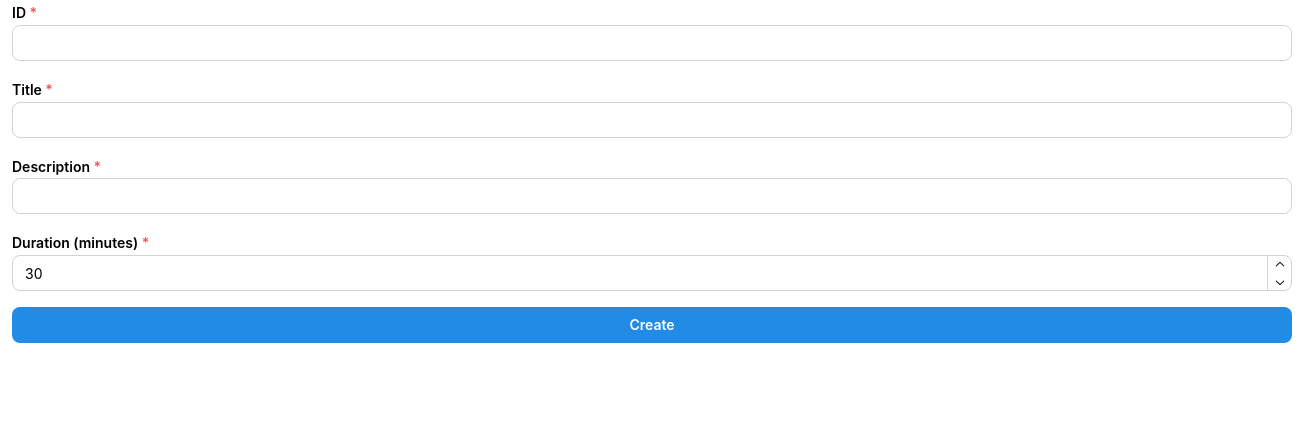
Test: CreateEventTypeForm › показывает сообщение при неизвестной ошибке
The width and height of the screenshot is (1304, 432).
Type "intro" into the field labelled "ID *" at (652, 43), box x1=12 y1=25 x2=1292 y2=61
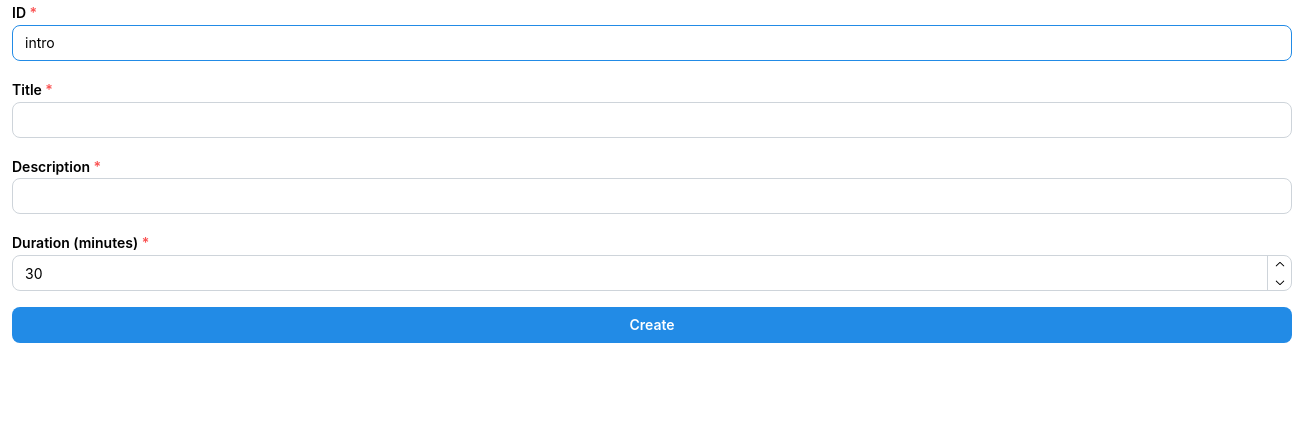
Type "Intro" into the field labelled "Title *" at (652, 120), box x1=12 y1=102 x2=1292 y2=138
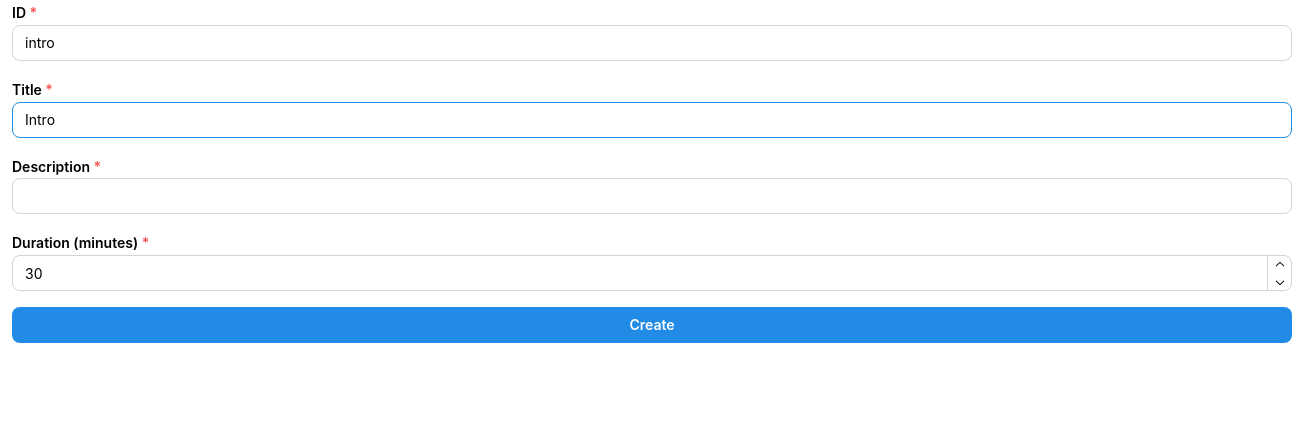
Type "Desc" into the field labelled "Description *" at (652, 196), box x1=12 y1=178 x2=1292 y2=214
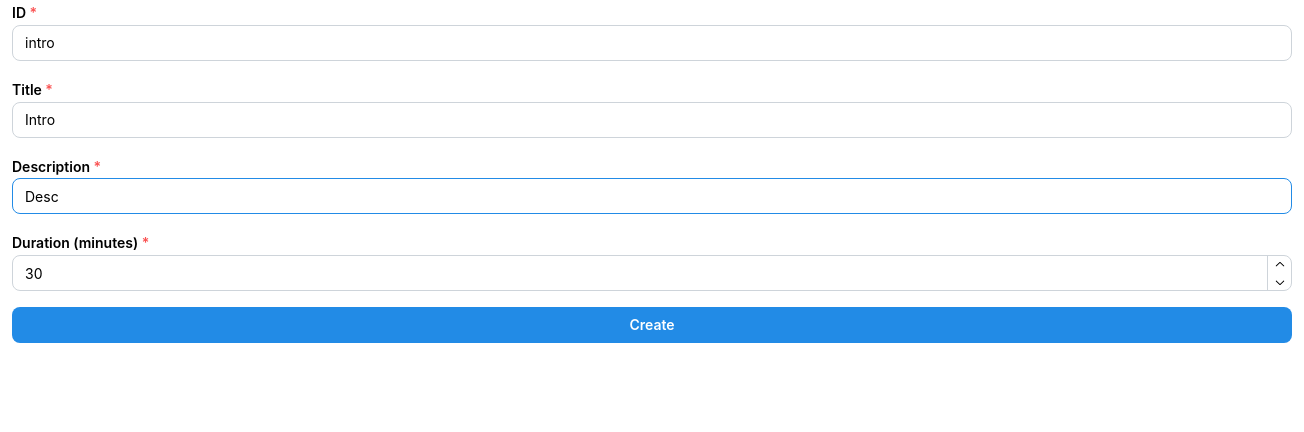
Click the button "Create" at (652, 325), box x1=12 y1=307 x2=1292 y2=343
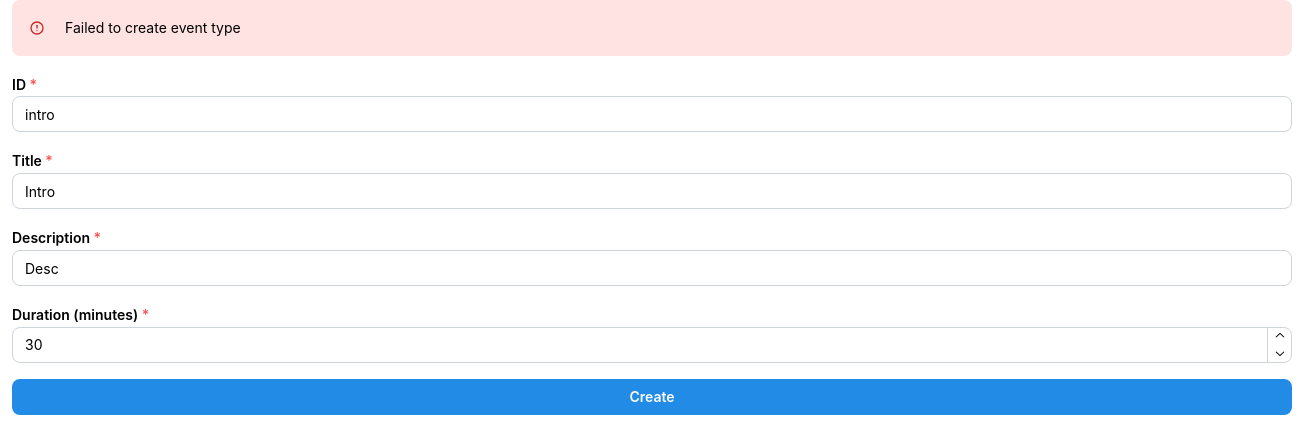
expect the text "Failed to create event type" is shown: met, box x1=65 y1=19 x2=241 y2=36
